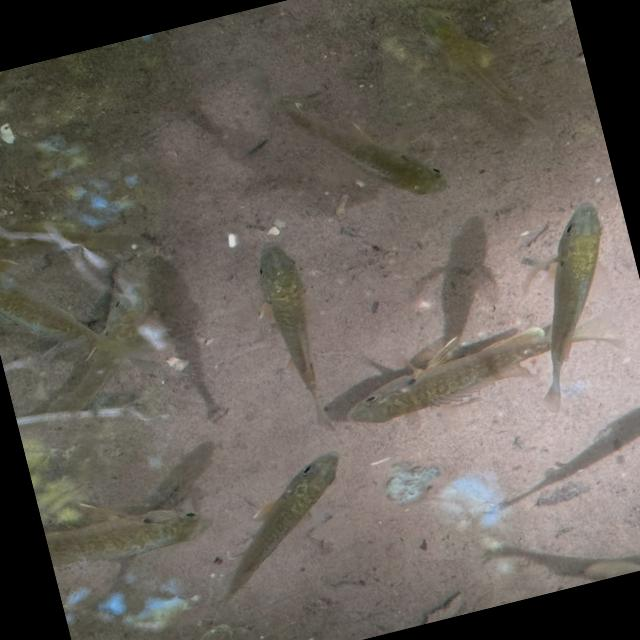Gunes Levregi: (493, 197, 640, 416), (328, 308, 564, 433), (186, 446, 371, 604), (280, 65, 456, 224), (404, 0, 545, 152), (34, 288, 177, 425), (39, 479, 204, 576), (242, 232, 333, 404)
